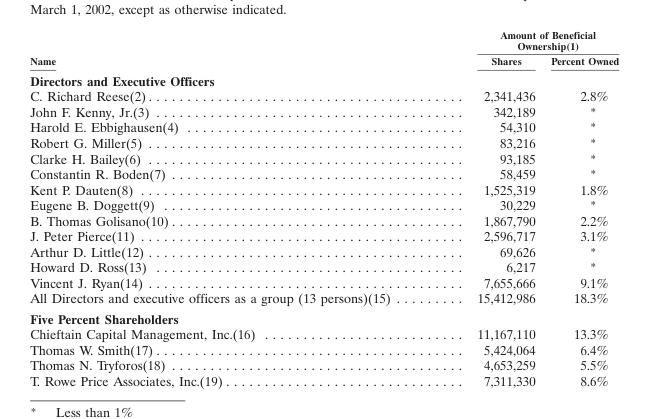table: (29, 28, 618, 388)
table column: (29, 28, 433, 388), (433, 28, 542, 388), (542, 28, 618, 388)
table column header: (29, 28, 618, 69)
table projected row header: (29, 69, 618, 88), (29, 307, 618, 325)
table row: (29, 28, 618, 52), (29, 69, 618, 88), (29, 289, 618, 307), (29, 307, 618, 325), (29, 52, 618, 69), (29, 103, 618, 119), (29, 134, 618, 150), (29, 165, 618, 181), (29, 196, 618, 212), (29, 227, 618, 243), (29, 258, 618, 274), (29, 325, 618, 341), (29, 356, 618, 372), (29, 372, 618, 388), (29, 88, 618, 103), (29, 119, 618, 134), (29, 150, 618, 165), (29, 181, 618, 196), (29, 212, 618, 227), (29, 243, 618, 258), (29, 274, 618, 289), (29, 341, 618, 356)
table spanning cell: (29, 28, 433, 69), (433, 28, 618, 52)
